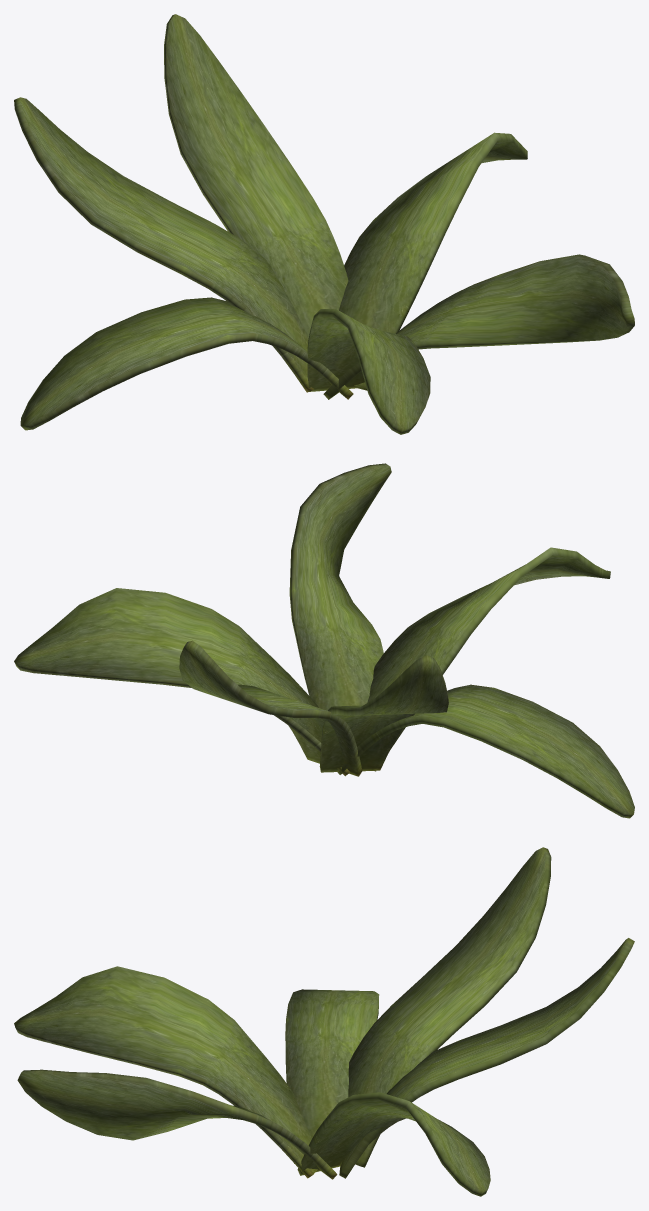
File: calyx4_sb4.dae
3 views of the same model, one above another, from view 1: azimuth 30°, elevation 25°; view 2: azimuth 150°, elevation 25°; view 3: azimuth 270°, elevation 25° (orthographic). The views are drawn at different scales.
Parts seen in each view (by area): view 1: calyx2_001, calyx2, calyx5, calyx3, calyx4_001, calyx4; view 2: calyx4_001, calyx5, calyx3, calyx4, calyx2, calyx2_001; view 3: calyx4, calyx2, calyx5, calyx3, calyx2_001, calyx4_001.
Part boxes in pixels (left/top/right/bottom): calyx2_001: left=164, top=14, right=348, bottom=338; calyx2: left=14, top=97, right=313, bottom=392; calyx5: left=323, top=254, right=634, bottom=399; calyx3: left=20, top=297, right=353, bottom=430; calyx4_001: left=339, top=132, right=527, bottom=390; calyx4: left=307, top=309, right=430, bottom=434; calyx4_001: left=14, top=588, right=350, bottom=776; calyx5: left=289, top=463, right=391, bottom=710; calyx3: left=337, top=684, right=634, bottom=818; calyx4: left=367, top=547, right=610, bottom=771; calyx2: left=319, top=655, right=448, bottom=772; calyx2_001: left=179, top=640, right=362, bottom=776; calyx4: left=14, top=966, right=317, bottom=1178; calyx2: left=348, top=847, right=551, bottom=1167; calyx5: left=17, top=1069, right=337, bottom=1179; calyx3: left=285, top=989, right=379, bottom=1163; calyx2_001: left=339, top=938, right=634, bottom=1178; calyx4_001: left=297, top=1092, right=490, bottom=1196.
Bounding box in the file's own units: 0.0832 × 0.0841 × 0.0345.
Materials: 6 (6 with a texture image).
